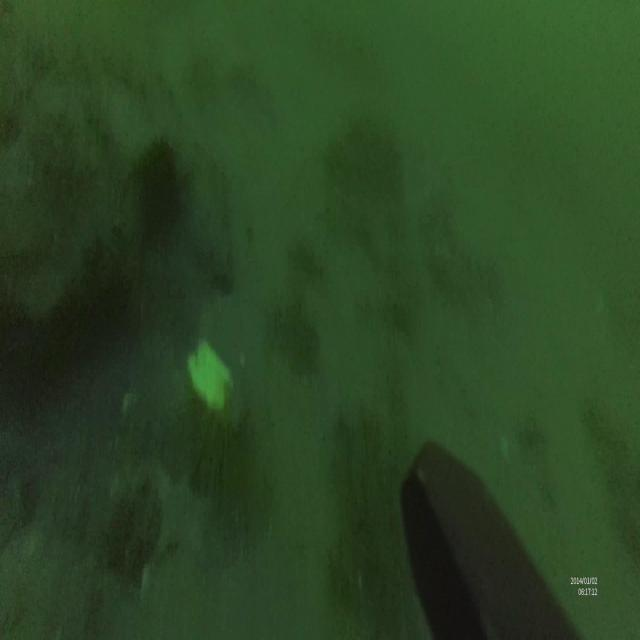echinus: (137, 135, 185, 242)
scallop: (187, 343, 236, 411)
